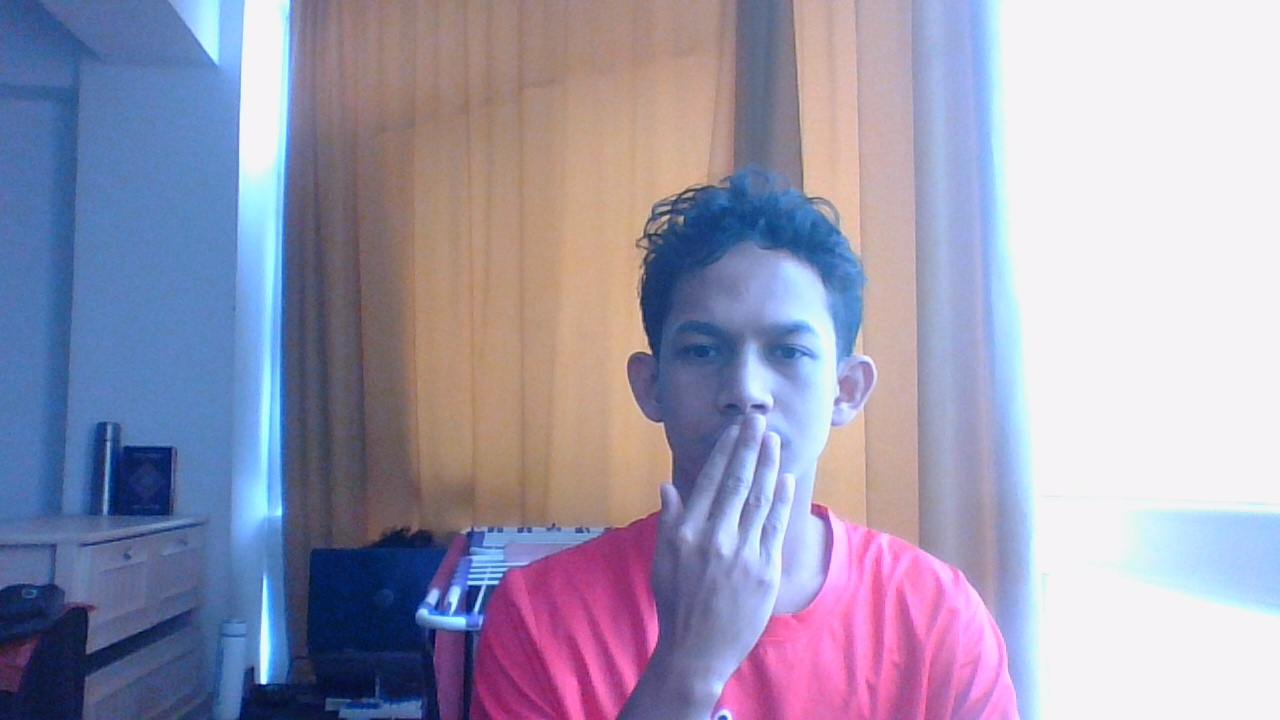thank you: (648, 419, 839, 656)
